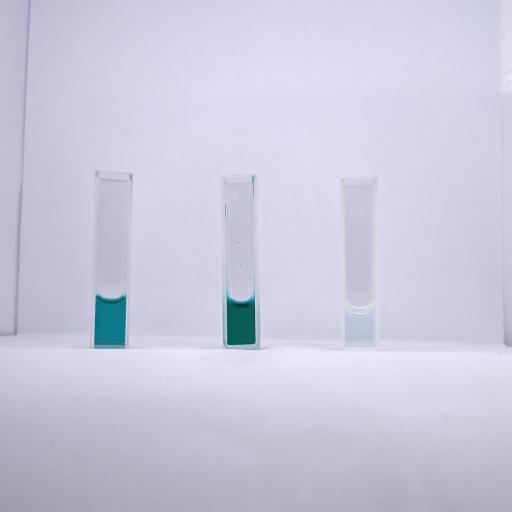cuvette: (89, 167, 134, 350), (219, 172, 262, 350), (340, 175, 380, 353)
liquid: (95, 296, 126, 346), (226, 298, 254, 345), (346, 306, 374, 346)
